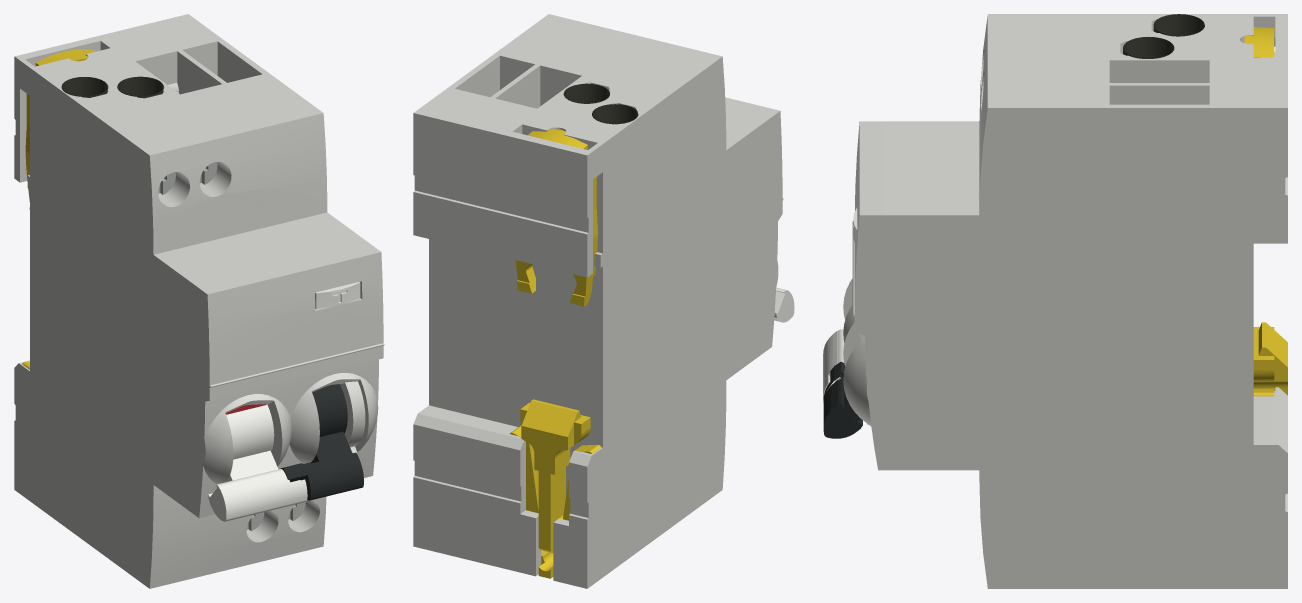
Rendered from schneider-acti9-idpn-n-vigi-1pn.glb.
3 views of the same model, side by side, from view 1: azimuth 30°, elevation 25°; view 2: azimuth 150°, elevation 25°; view 3: azimuth 270°, elevation 25° (orthographic). The views are drawn at different scales.
Visible parts, largest first — view 1: schneider_body_0, schneider_handle_2, schneider_handle_3, schneider_clip_8, schneider_test, cavity_1, cavity_N1; view 2: schneider_body_0, schneider_clip_9, schneider_clip_8, cavity_N1, cavity_1, schneider_handle_2; view 3: schneider_body_0, schneider_clip_9, schneider_handle_3, cavity_N1, cavity_1, schneider_handle_2, schneider_clip_8.
Part boxes in pixels (<box>): schneider_body_0: <box>14,14,384,588</box>; schneider_handle_2: <box>208,404,307,521</box>; schneider_handle_3: <box>280,384,363,500</box>; schneider_clip_8: <box>25,49,94,209</box>; schneider_test: <box>315,282,360,308</box>; cavity_1: <box>117,76,163,98</box>; cavity_N1: <box>61,77,107,97</box>; schneider_body_0: <box>413,14,783,588</box>; schneider_clip_9: <box>510,399,601,578</box>; schneider_clip_8: <box>515,128,597,306</box>; cavity_N1: <box>592,104,638,124</box>; cavity_1: <box>563,83,609,103</box>; schneider_handle_2: <box>774,287,794,322</box>; schneider_body_0: <box>843,14,1287,588</box>; schneider_clip_9: <box>1253,322,1287,396</box>; schneider_handle_3: <box>823,362,862,438</box>; cavity_N1: <box>1153,14,1204,36</box>; cavity_1: <box>1123,37,1174,58</box>; schneider_handle_2: <box>823,329,844,402</box>; schneider_clip_8: <box>1244,27,1274,57</box>.
Size of the model in its own units: 0.0356 by 0.085 by 0.0743.
